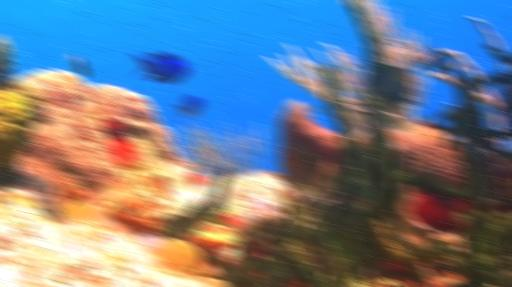Fish: (364, 62, 413, 112), (131, 53, 190, 83), (173, 93, 204, 125), (67, 54, 88, 76), (312, 103, 323, 113)
